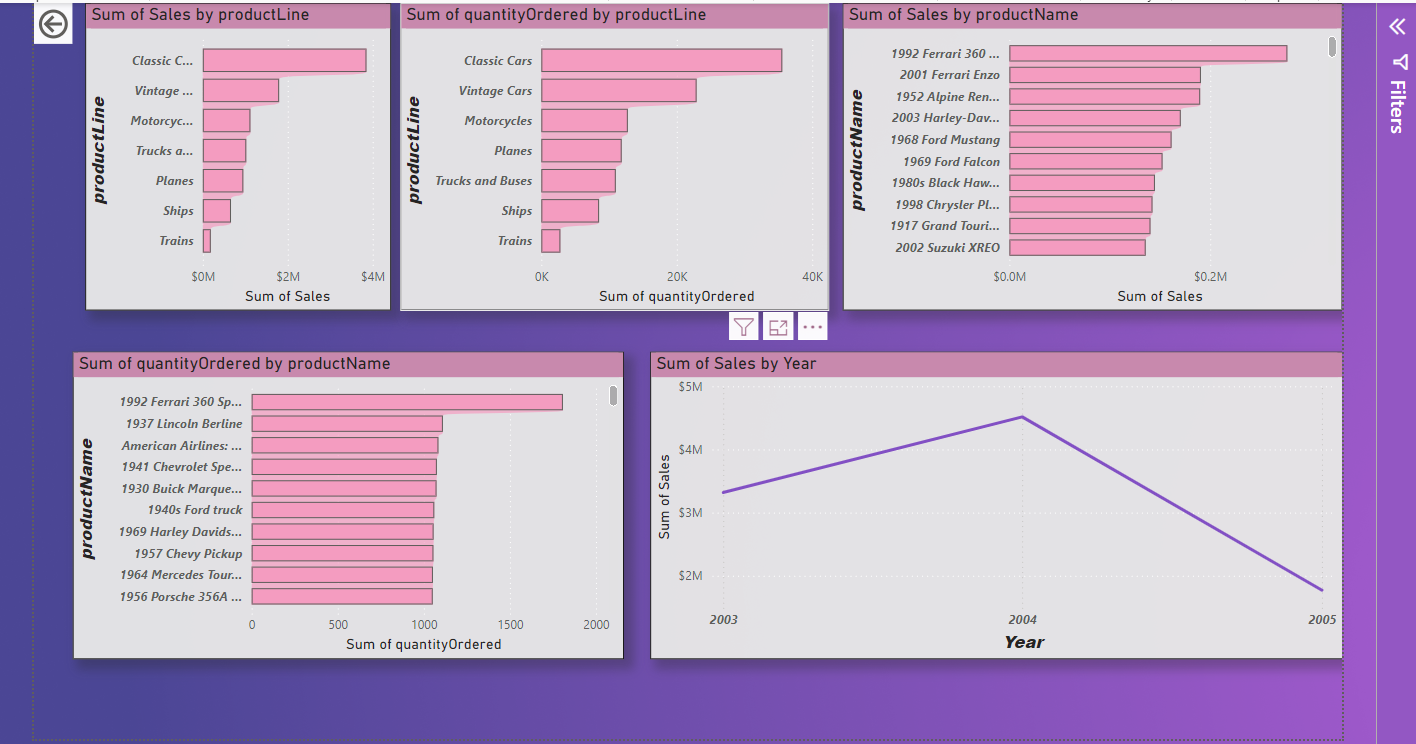

The dashboard page shown, as its layout file describes it:
{"tool":"powerbi","page":{"name":"detailed View","canvas":[1280,720],"ordinal":2},"visuals":[{"type":"actionButton","box":[0,0,37.9,40.4],"z":0},{"type":"barChart","fields":{"Category":["productlines.productLine"],"Y":["Sum(order_details.Sales)"]},"box":[50.1,0,299.6,300.8],"z":1000},{"type":"barChart","fields":{"Category":["productlines.productLine"],"Y":["Sum(order_details.quantityOrdered)"]},"box":[358.3,0,419.4,300.8],"z":2000},{"type":"barChart","fields":{"Category":["products.productName"],"Y":["Sum(order_details.Sales)"]},"box":[791.2,0,489.1,300.8],"z":3000},{"type":"barChart","fields":{"Category":["products.productName"],"Y":["Sum(order_details.quantityOrdered)"]},"box":[37.9,341.2,539.3,300.8],"z":4000},{"type":"lineChart","fields":{"Category":["orders.orderDate.Variation.Date Hierarchy.Year","orders.orderDate.Variation.Date Hierarchy.Quarter","orders.orderDate.Variation.Date Hierarchy.Month","orders.orderDate.Variation.Date Hierarchy.Day"],"Y":["Sum(order_details.Sales)"]},"box":[602.9,341.2,677.4,300.8],"z":5000}]}

Visuals, with their boxes in screenshot pixels (x1, y1, x2, y2):
actionButton: box(33, 0, 72, 41)
barChart - productlines.productLine x Sum(order_details.Sales): box(84, 0, 390, 307)
barChart - productlines.productLine x Sum(order_details.quantityOrdered): box(399, 0, 827, 307)
barChart - products.productName x Sum(order_details.Sales): box(840, 0, 1339, 307)
barChart - products.productName x Sum(order_details.quantityOrdered): box(72, 348, 622, 655)
lineChart - orders.orderDate.Variation.Date Hierarchy.Year x orders.orderDate.Variation.Date Hierarchy.Quarter: box(648, 348, 1339, 655)
